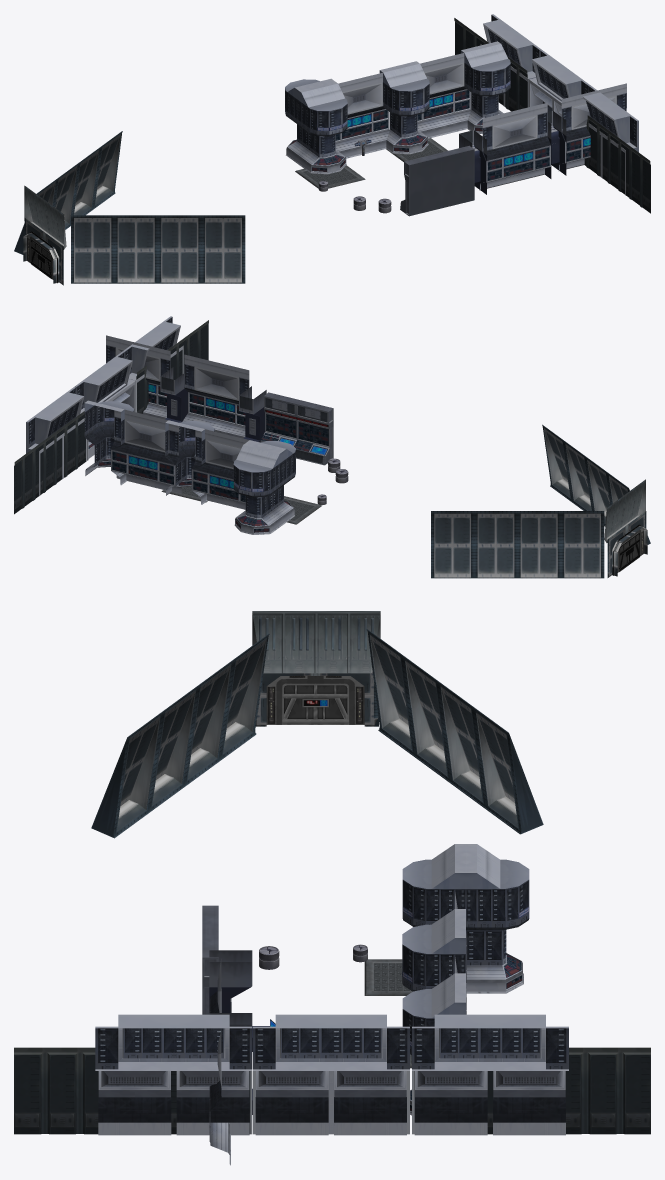
Rendered from env_mana_sith_base_02_pre.glb.
3 views of the same model, one above another, from view 1: azimuth 30°, elevation 25°; view 2: azimuth 150°, elevation 25°; view 3: azimuth 270°, elevation 25° (orthographic). The views are drawn at different scales.
Visible parts, largest first — view 1: mana_wall_03_mesh (1), mana_wall_03_mesh, mana_console_02_mesh (3), mana_console_05_mesh, mana_console_03_mesh (1), mana_console_03_mesh, mana_console_02_mesh (1), mana_console_02_mesh, mana_wall_04_mesh (1), mana_console_03_mesh (3), mana_wall_03_mesh (6), mana_console_02_mesh (2) (+13 smaller); view 2: mana_wall_03_mesh (3), mana_wall_03_mesh (6), mana_console_02_mesh (1), mana_console_02_mesh (3), mana_console_05_mesh, mana_console_03_mesh (2), mana_wall_04_mesh, mana_console_02_mesh, mana_wall_03_mesh (1), mana_wall_02_mesh, mana_console_03_mesh (3), mana_wall_02_mesh (1) (+12 smaller); view 3: mana_wall_02_mesh, mana_wall_02_mesh (1), mana_wall_02_mesh (2), mana_wall_03_mesh (6), mana_wall_04_mesh (1), mana_console_03_mesh (2), mana_wall_04_mesh, mana_wall_03_mesh (1), mana_light_01_mesh, mana_wall_03_mesh (3), mana_wall_03_mesh, mana_arch_door_01a_mesh (+8 smaller).
Part boxes in pixels (bbox=[...]): mana_wall_03_mesh (1): bbox=[158, 215, 245, 283]; mana_wall_03_mesh: bbox=[71, 215, 157, 283]; mana_console_02_mesh (3): bbox=[479, 102, 550, 190]; mana_console_05_mesh: bbox=[400, 145, 474, 216]; mana_console_03_mesh (1): bbox=[298, 81, 347, 174]; mana_console_03_mesh: bbox=[379, 61, 429, 154]; mana_console_02_mesh (1): bbox=[417, 53, 471, 138]; mana_console_02_mesh: bbox=[335, 72, 389, 158]; mana_wall_04_mesh (1): bbox=[584, 115, 650, 213]; mana_console_03_mesh (3): bbox=[461, 41, 510, 133]; mana_wall_03_mesh (6): bbox=[72, 131, 122, 215]; mana_console_02_mesh (2): bbox=[559, 83, 626, 170]; mana_wall_03_mesh (3): bbox=[517, 511, 604, 578]; mana_wall_03_mesh (6): bbox=[431, 511, 517, 578]; mana_console_02_mesh (1): bbox=[111, 409, 181, 494]; mana_console_02_mesh (3): bbox=[182, 354, 249, 438]; mana_console_05_mesh: bbox=[260, 392, 333, 465]; mana_console_03_mesh (2): bbox=[233, 442, 282, 534]; mana_wall_04_mesh: bbox=[14, 411, 85, 514]; mana_console_02_mesh: bbox=[192, 429, 249, 509]; mana_wall_03_mesh (1): bbox=[542, 424, 593, 510]; mana_wall_02_mesh: bbox=[74, 351, 135, 460]; mana_console_03_mesh (3): bbox=[84, 400, 134, 485]; mana_wall_02_mesh (1): bbox=[26, 387, 86, 495]; mana_wall_02_mesh: bbox=[253, 1014, 409, 1135]; mana_wall_02_mesh (1): bbox=[412, 1014, 568, 1135]; mana_wall_02_mesh (2): bbox=[95, 1014, 252, 1135]; mana_wall_03_mesh (6): bbox=[437, 681, 543, 834]; mana_wall_04_mesh (1): bbox=[14, 1047, 250, 1134]; mana_console_03_mesh (2): bbox=[465, 844, 529, 993]; mana_wall_04_mesh: bbox=[414, 1047, 650, 1134]; mana_wall_03_mesh (1): bbox=[91, 685, 198, 838]; mana_light_01_mesh: bbox=[252, 611, 380, 673]; mana_wall_03_mesh (3): bbox=[366, 629, 450, 781]; mana_wall_03_mesh: bbox=[184, 633, 269, 785]; mana_arch_door_01a_mesh: bbox=[266, 676, 364, 724].
Size of the model in its own units: 61.38 by 7.93 by 37.22.
8 materials, 8 textured.
